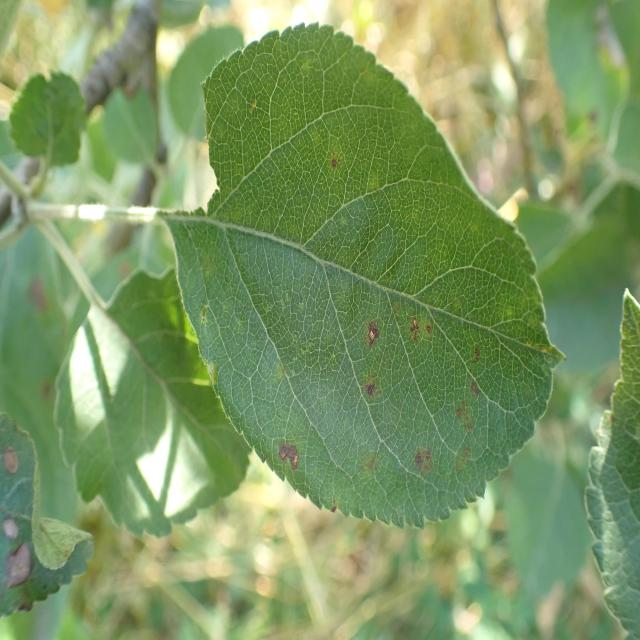scab: (213, 52, 557, 489)
